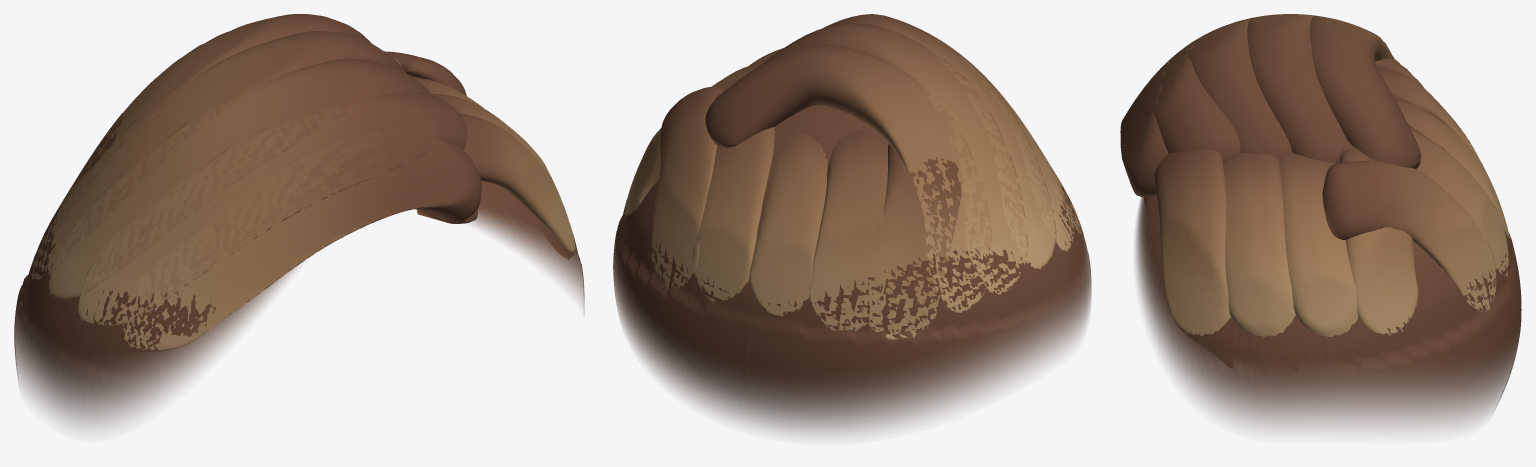
File: Ombre-4bbcb22e4b29253-hair.glb
The picture shows the model from 3 angles, left to right: view 1: azimuth 30°, elevation 25°; view 2: azimuth 150°, elevation 25°; view 3: azimuth 270°, elevation 25°; orthographic projection. The views are drawn at different scales.
Parts seen in each view (by area): view 1: 226 hair / Hair252 / sculpted locks.001, 226 hair / Hair252 / gentle tonal variation.001, 226 hair / Hair252 / restored153 fade coverage.001; view 2: 226 hair / Hair252 / sculpted locks.001, 226 hair / Hair252 / restored153 fade coverage.001, 226 hair / Hair252 / gentle tonal variation.001; view 3: 226 hair / Hair252 / sculpted locks.001, 226 hair / Hair252 / restored153 fade coverage.001, 226 hair / Hair252 / gentle tonal variation.001.
Boxes of the visible parts, x1,y1,x2,y2 form: 226 hair / Hair252 / sculpted locks.001: (32,14,558,326); 226 hair / Hair252 / gentle tonal variation.001: (122,113,575,351); 226 hair / Hair252 / restored153 fade coverage.001: (14,181,584,427); 226 hair / Hair252 / sculpted locks.001: (624,14,1073,339); 226 hair / Hair252 / restored153 fade coverage.001: (613,105,1091,435); 226 hair / Hair252 / gentle tonal variation.001: (749,48,1080,330); 226 hair / Hair252 / sculpted locks.001: (1140,14,1510,336); 226 hair / Hair252 / restored153 fade coverage.001: (1135,93,1521,430); 226 hair / Hair252 / gentle tonal variation.001: (1120,59,1479,335).
Size of the model in its own units: 0.976 by 0.7525 by 0.7344.
3 materials, 3 textured.
